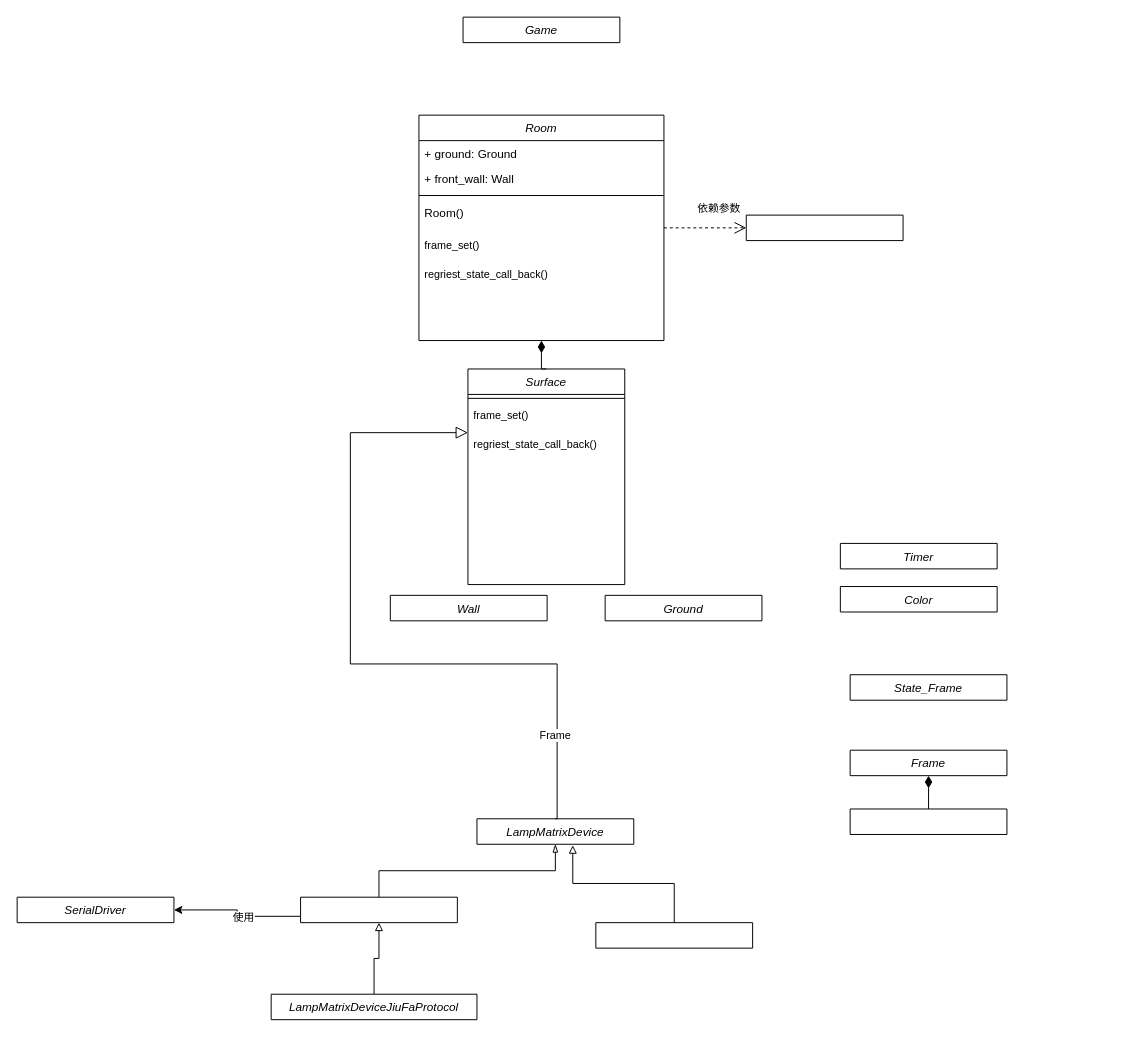
This 1142x1050 diagram has some shape labels left out. The shapes that lost their labels are listed below. From the top down, each one's centre as x and y in pixels, then its label:
At point 824,227: "Config".
At point 928,821: "Point".
At point 378,909: "LampSerialDevice".
At point 674,935: "LampOtherDevice".
